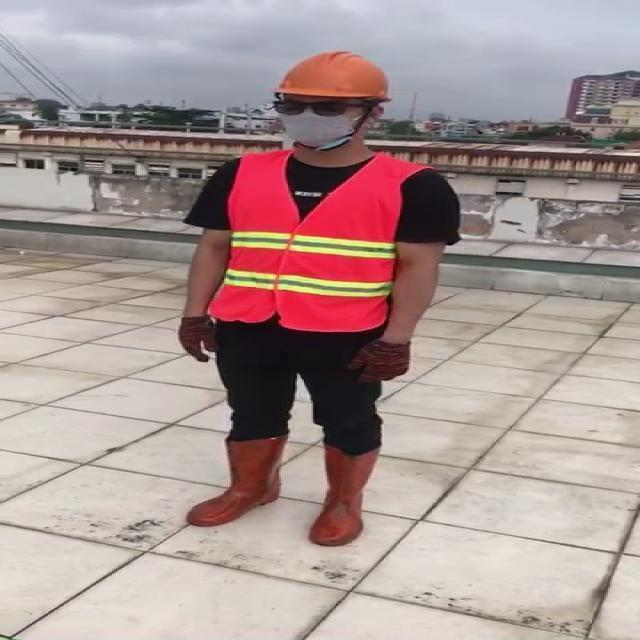gloves: (346, 338, 411, 387), (174, 312, 220, 362)
goggles: (271, 100, 385, 117)
helmet: (269, 47, 402, 101)
safety_vest: (213, 154, 402, 330)
